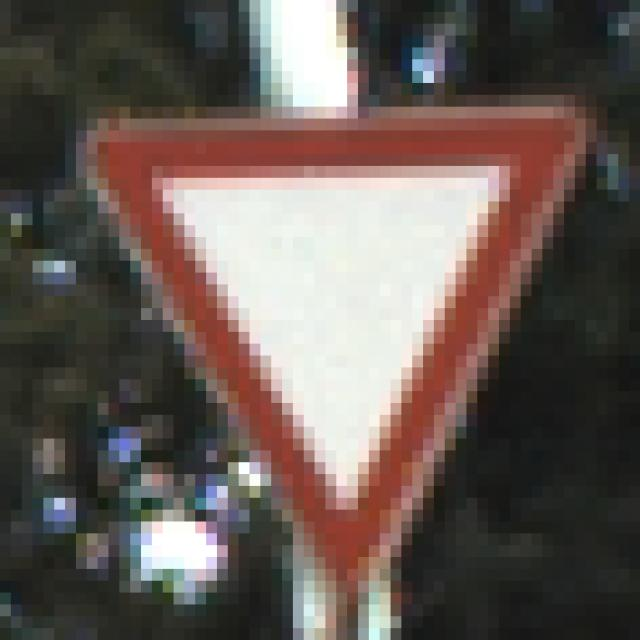Give Way: (55, 72, 576, 570)
